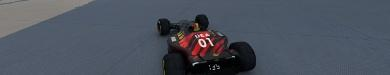Car: (155, 15, 256, 74)
